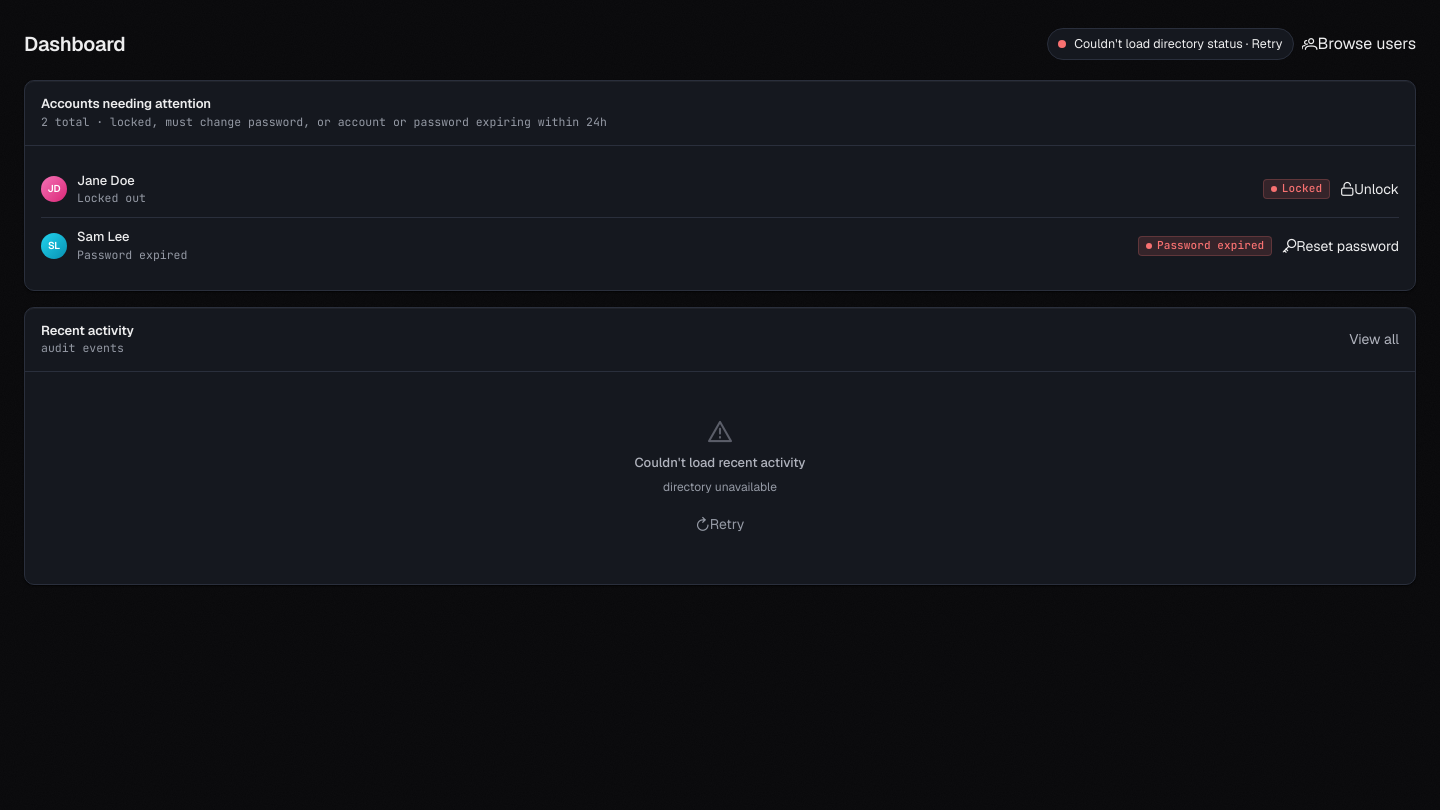
Scenario: accounts needing attention › unlocks after the step-up its click prompts, and the fixed row leaves
Expected: the list item with class "user-list-item" that starts with "Jane Doe" is shown, [41, 162, 1399, 218]
Click the button "Unlock": (1370, 189) [1340, 179, 1399, 199]
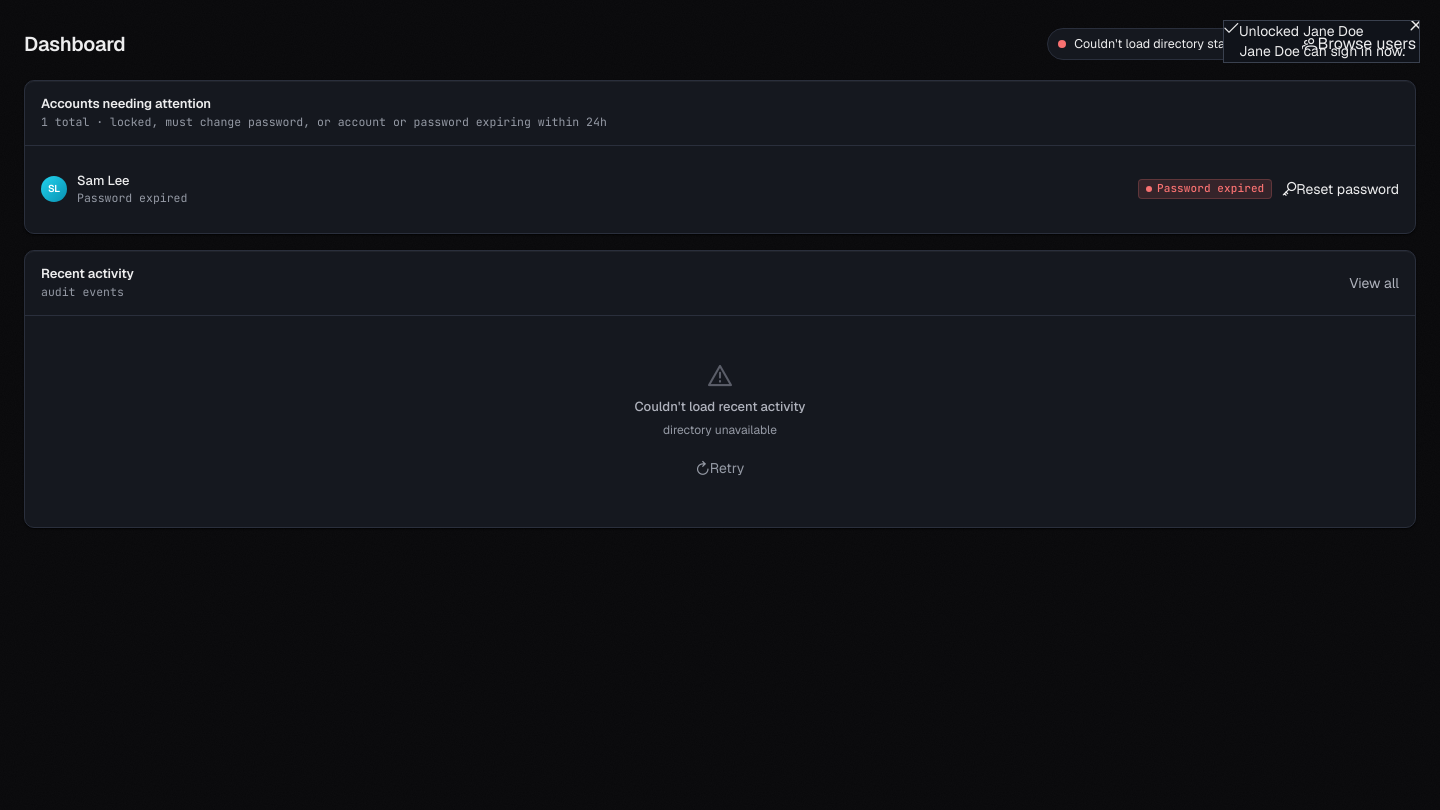
Result: the text "1 total" is shown at [41, 114, 607, 129]
Result: the text "Unlocked Jane Doe" is shown at [1239, 22, 1364, 40]
